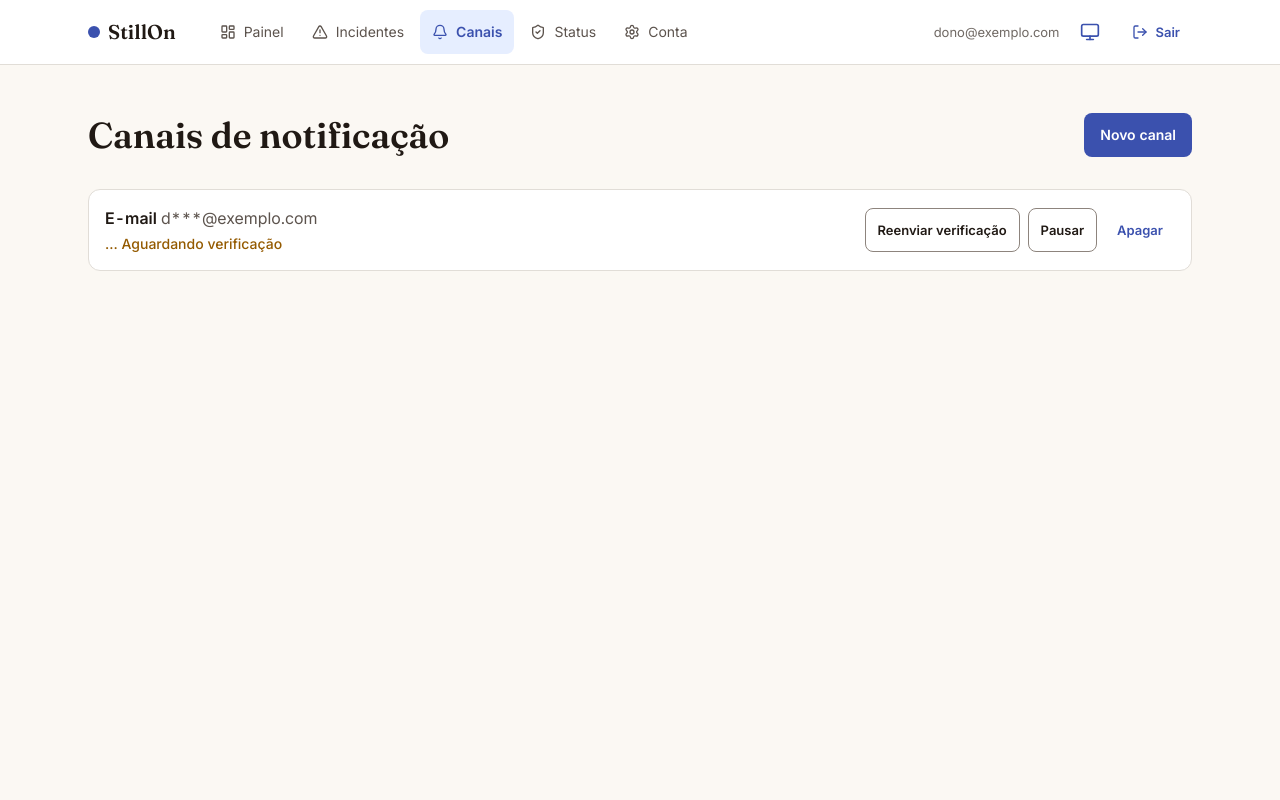
canais › reenviar: um envio só, mesmo com dois cliques
The image size is (1280, 800).
Click the button with aria-label "Reenviar verificação do canal d***@exemplo.com": (942, 230) x1=864 y1=208 x2=1020 y2=252
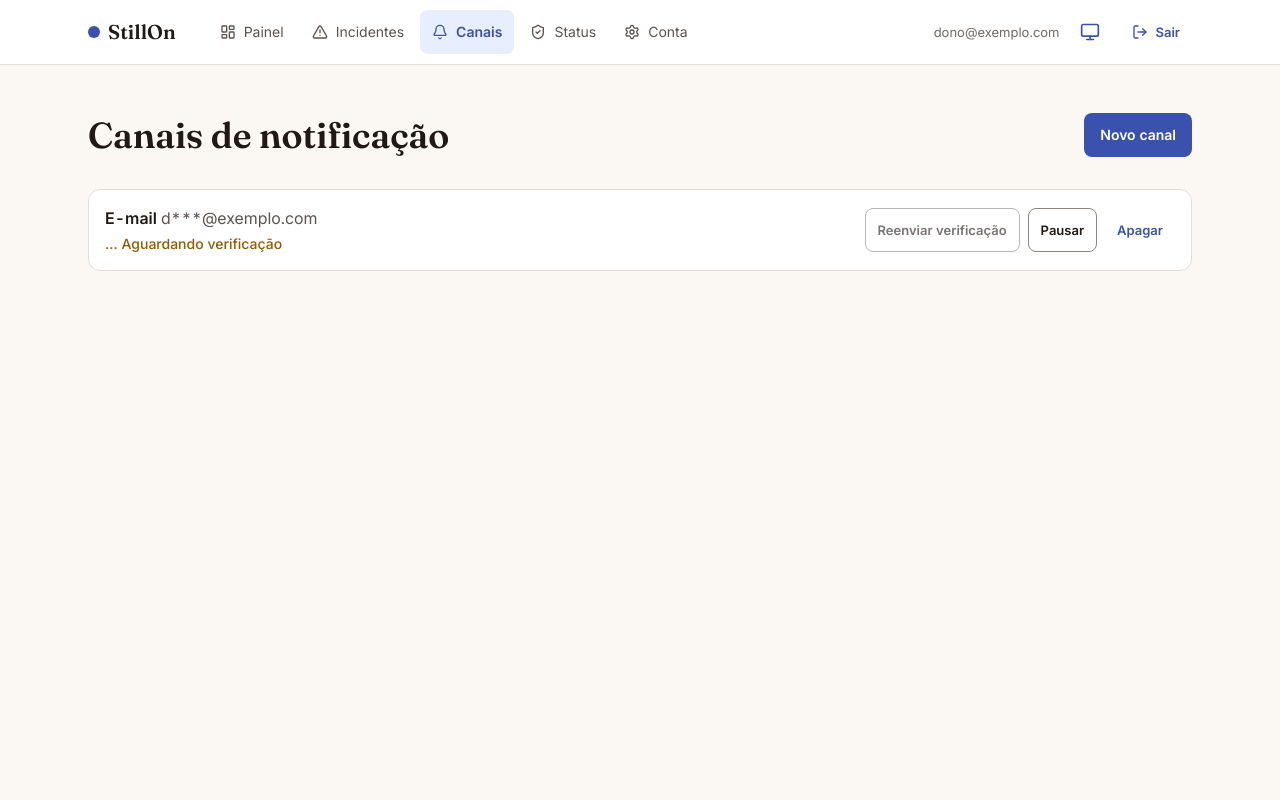
Click the button with aria-label "Reenviar verificação do canal d***@exemplo.com": (942, 230) x1=864 y1=208 x2=1020 y2=252
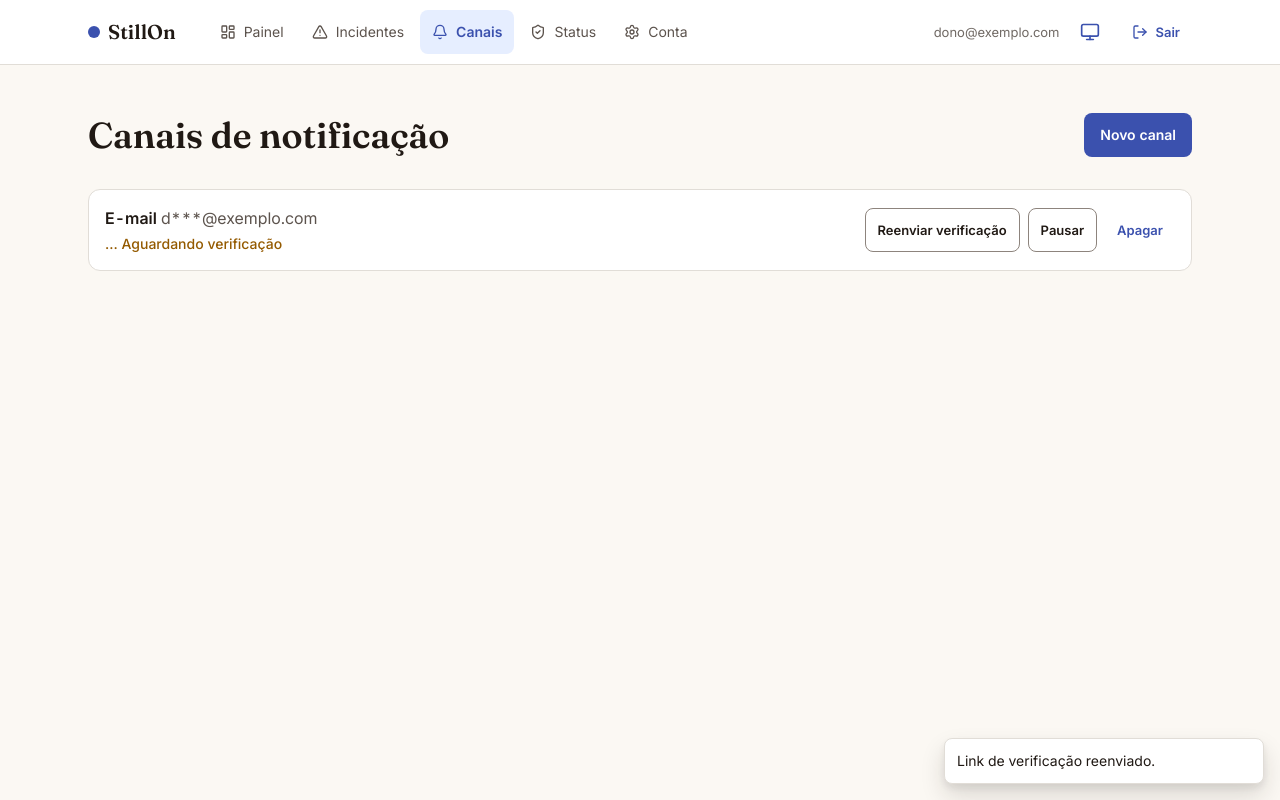
Check: the text "Link de verificação reenviado." is shown, box x1=957 y1=752 x2=1155 y2=769
Check: the button with aria-label "Reenviar verificação do canal d***@exemplo.com" is enabled, box x1=864 y1=208 x2=1020 y2=252
